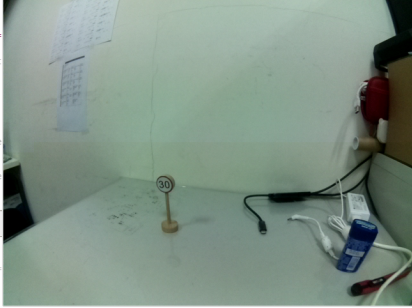Speed30: (155, 174, 178, 196)
